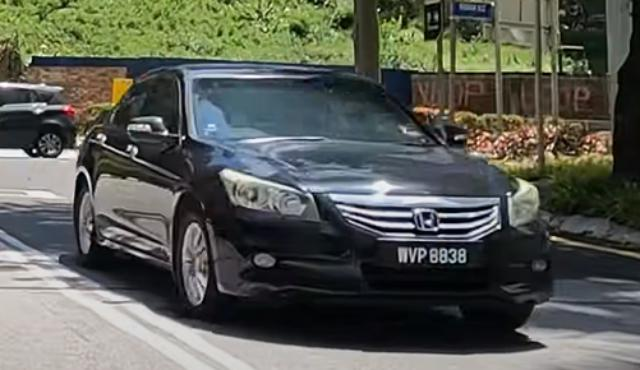License_Plate: (396, 244, 470, 268)
car: (73, 61, 555, 331)
